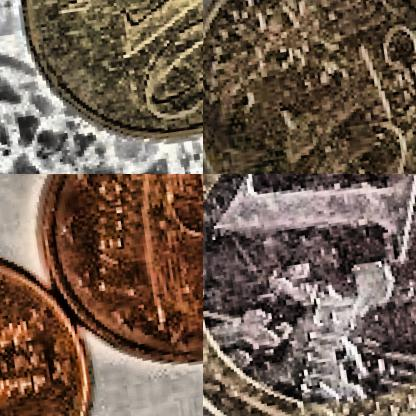coin: (203, 174, 415, 415), (20, 174, 202, 384), (203, 0, 415, 173), (3, 0, 202, 165)
